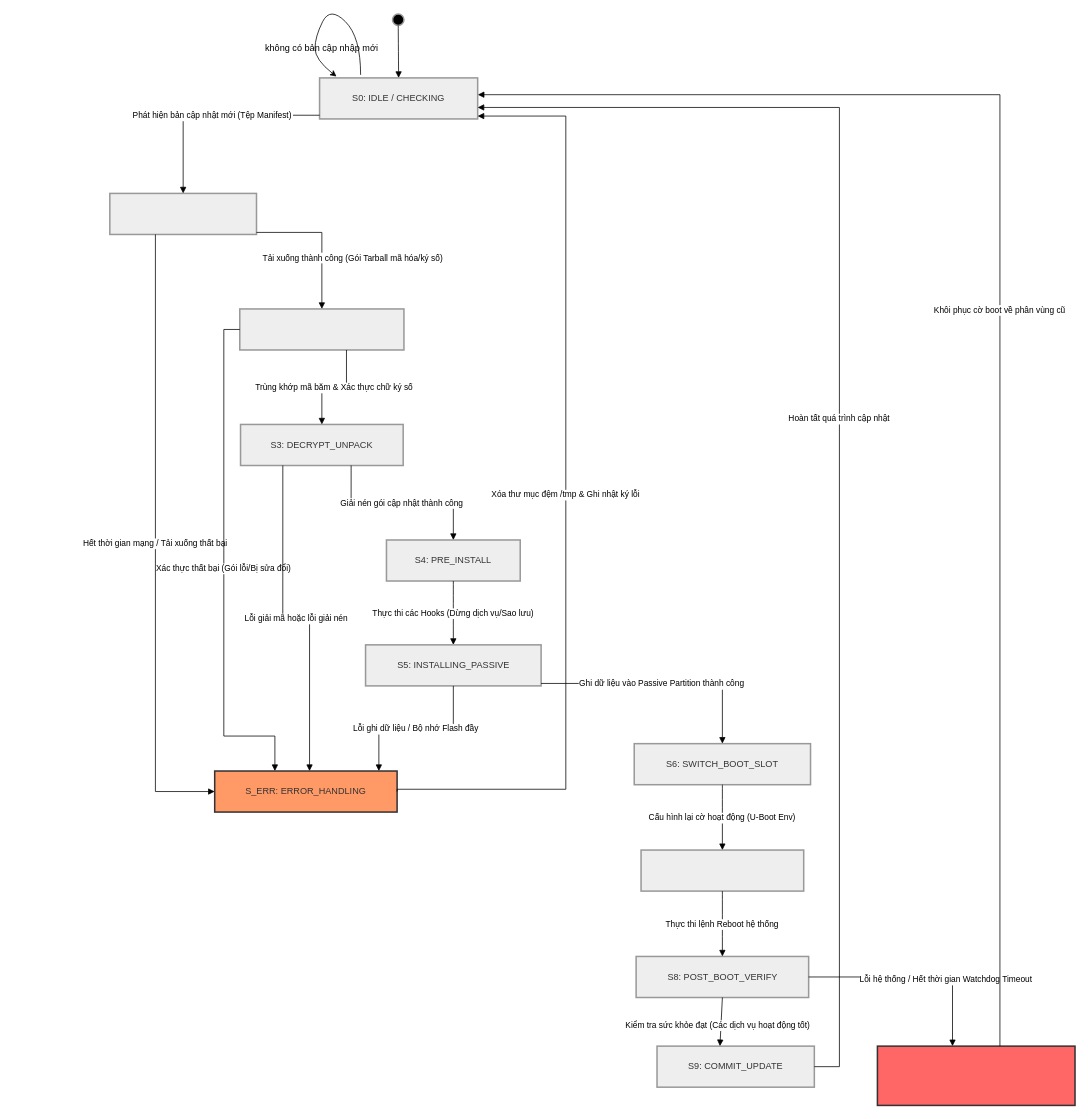
Some shapes in this 1088 by 1119 pixel diagram are drawn without their labels. The box of each missing label's shape, as (x1, y1, x2, y2) in pixels:
S1: DOWNLOADING: (109, 192, 257, 235)
S2: INTEGRITY_CHECK: (239, 308, 404, 350)
S7: PENDING_REBOOT: (640, 849, 804, 891)
S_ROLLBACK: ROLLBACK_ACTIVE: (876, 1045, 1075, 1106)
